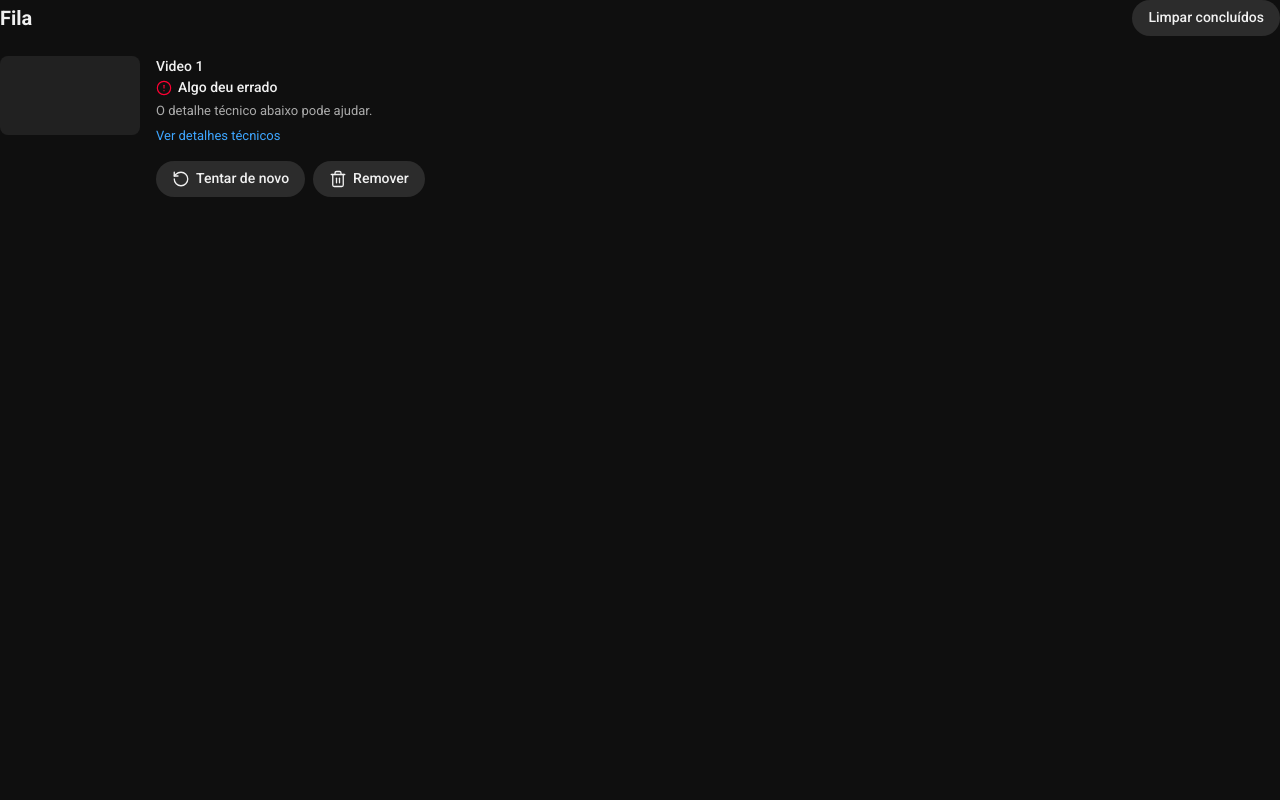
it: technical details › closes with Escape and gives the focus back to the link
The width and height of the screenshot is (1280, 800).
Click the button "Ver detalhes técnicos" at (218, 136), box [156, 127, 280, 145]
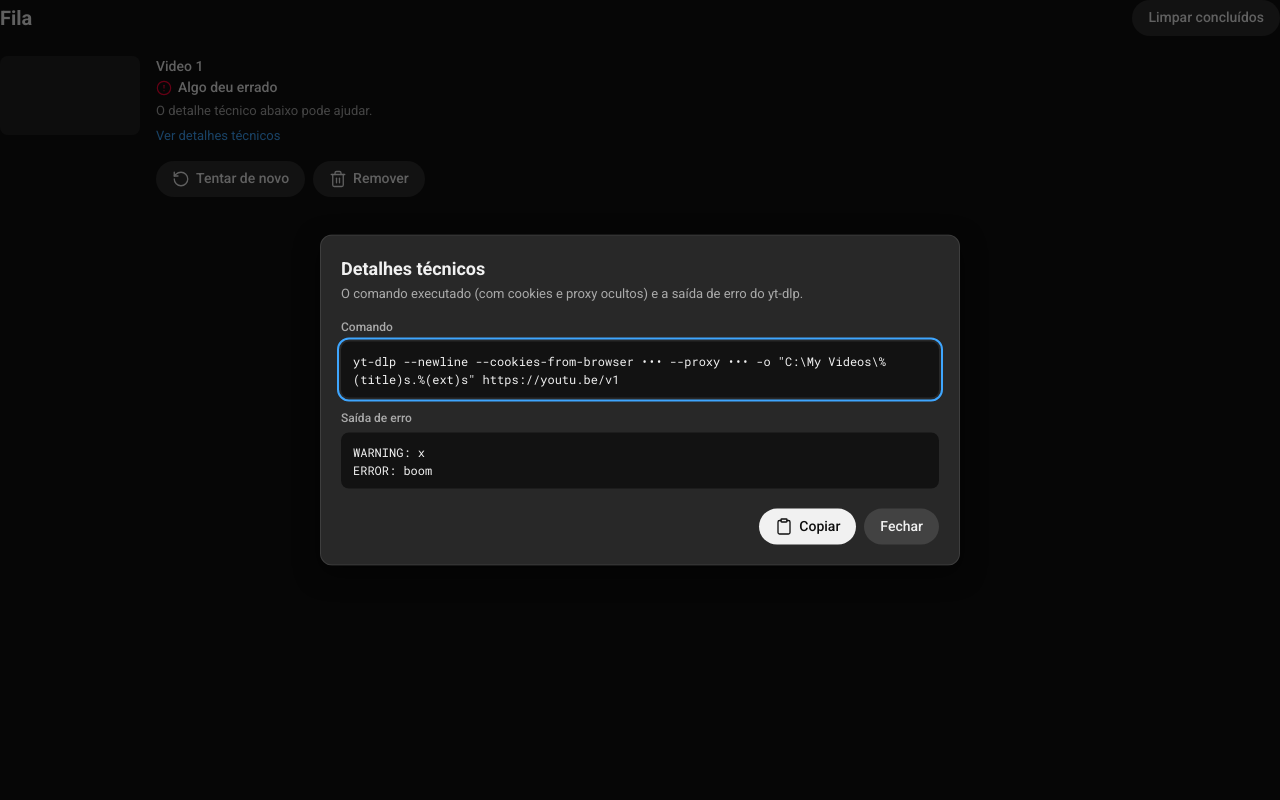
Press Escape
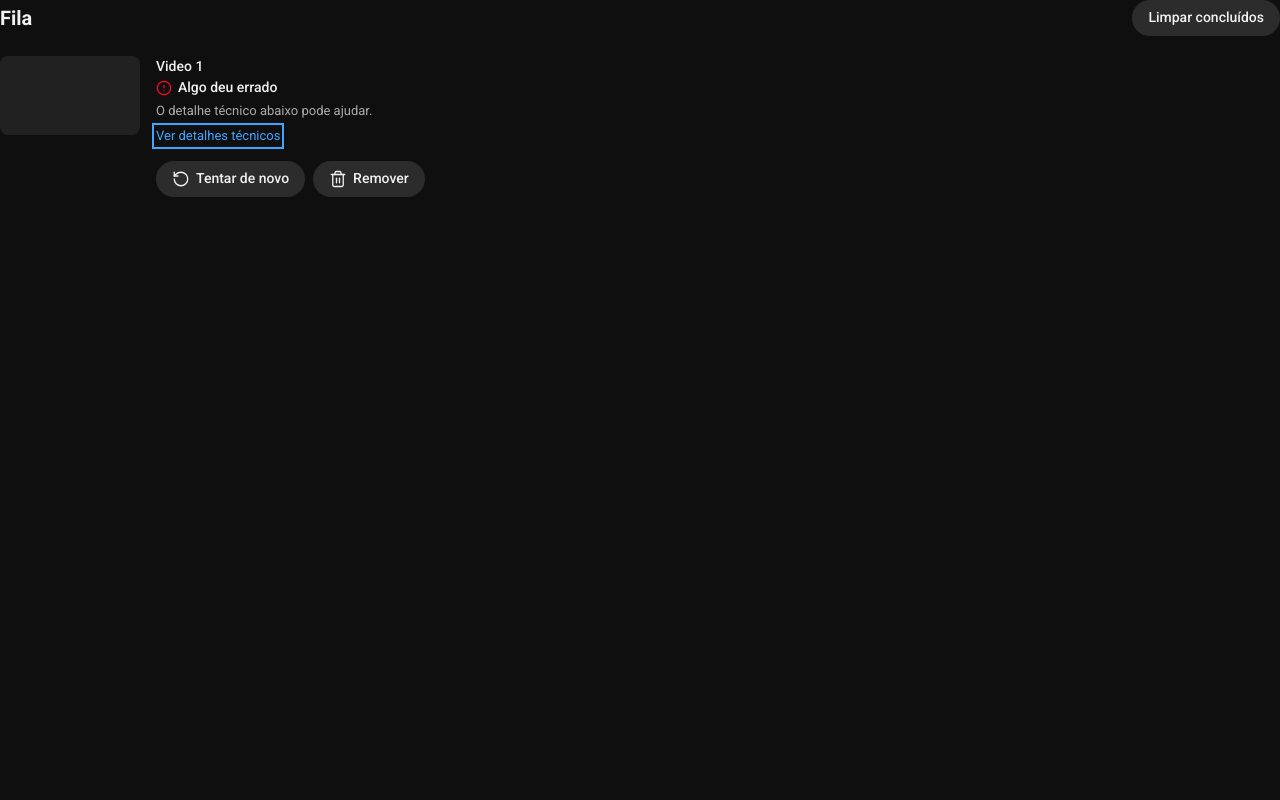
Check: the dialog is gone
